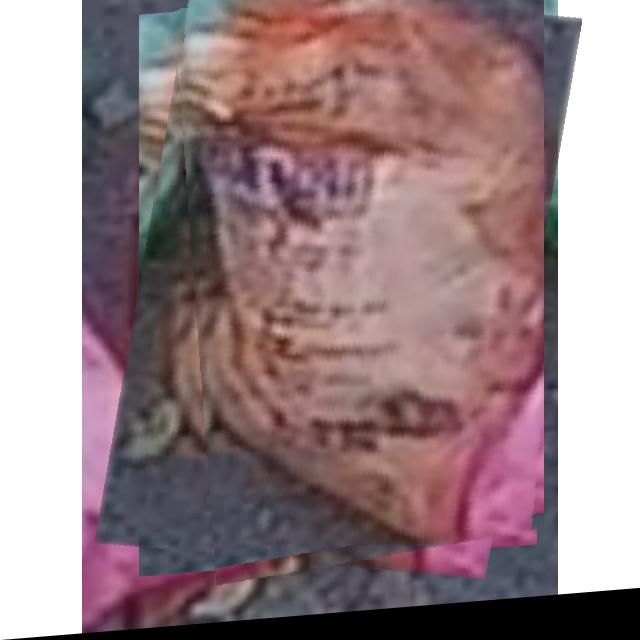other_trashbag: (178, 0, 544, 559)
